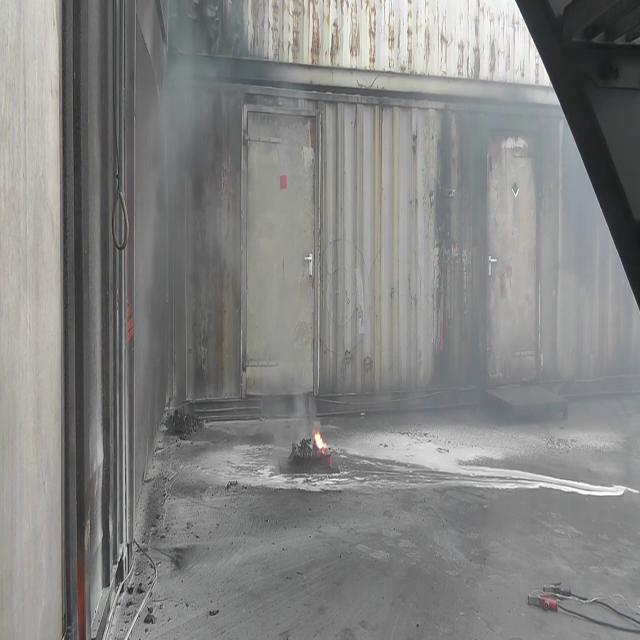Fire: (311, 421, 329, 458)
